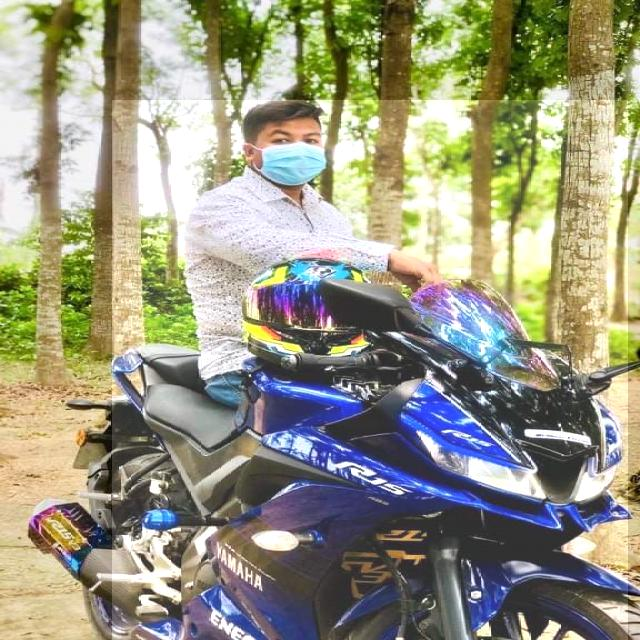Bike: (112, 100, 628, 640)
